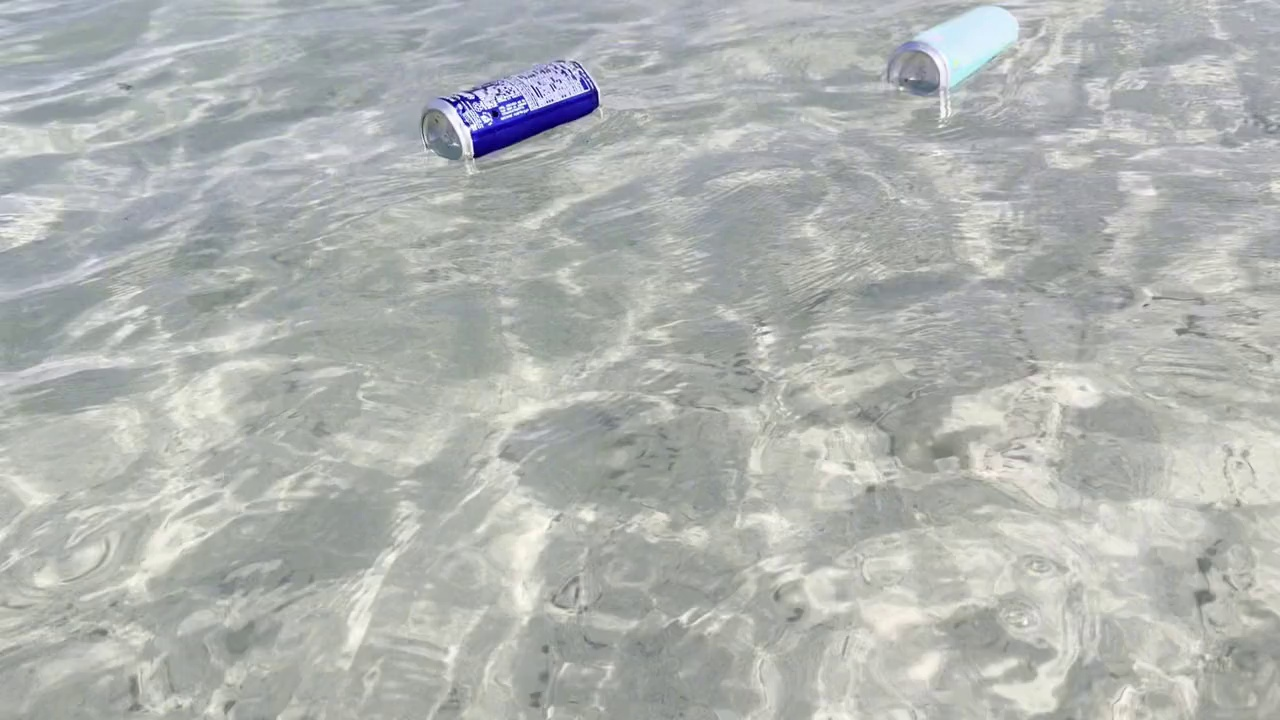debris: (411, 54, 605, 179), (877, 2, 1037, 107)
